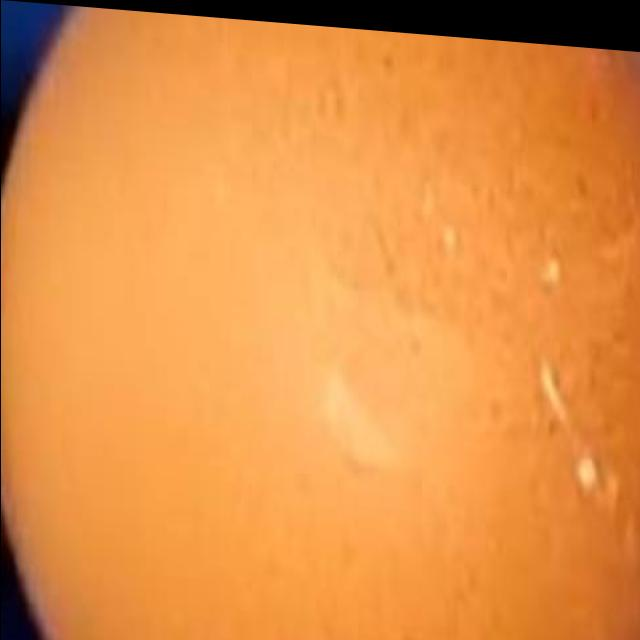unfresh: (18, 1, 640, 640)
